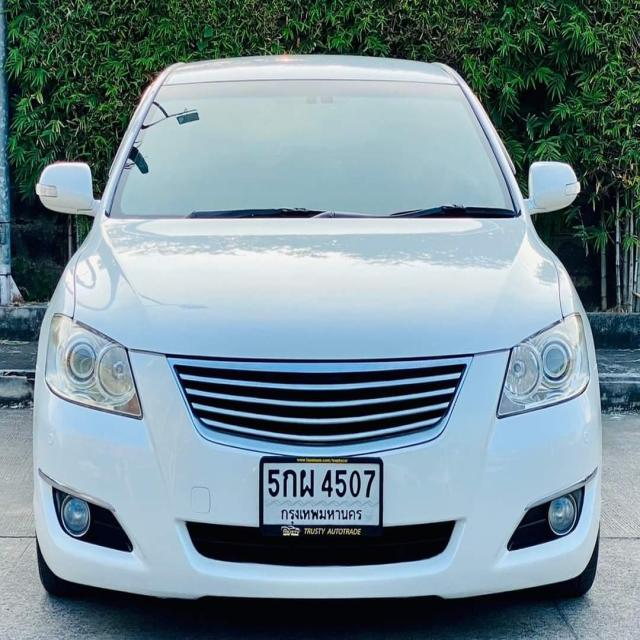license_plate: (256, 453, 385, 539)
